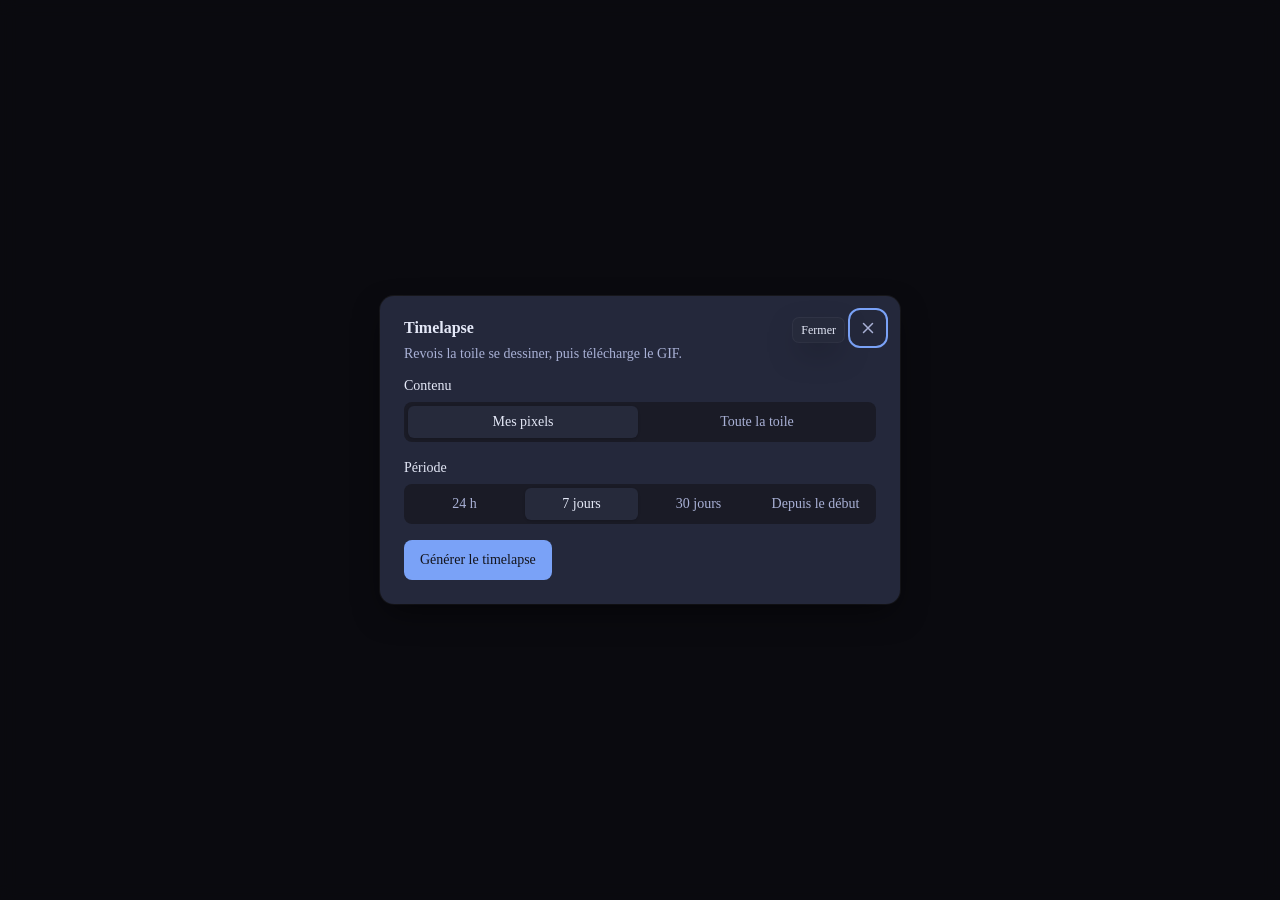
<TimelapseDialog /> › explique un refus 503
Click the button "Générer le timelapse": (478, 560) [404,540,552,580]
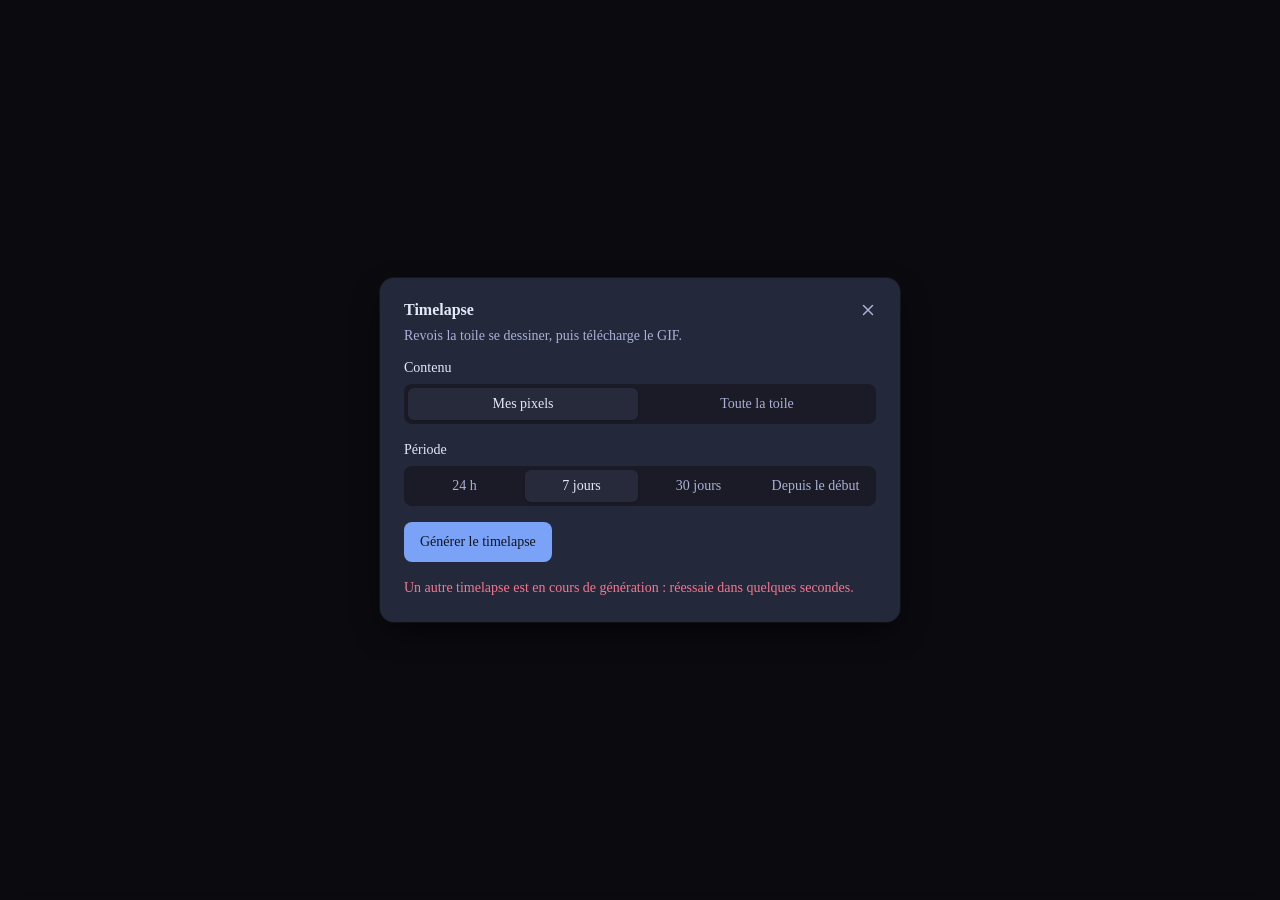
Now the message shows "Un autre timelapse est en cours de génération", box [404,580,854,595]
